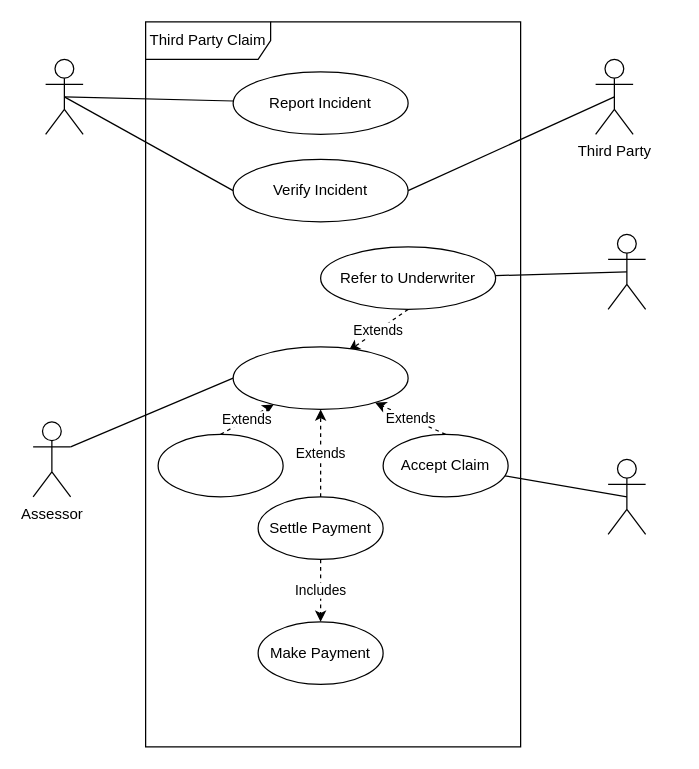
This 699x769 diagram has some shape labels left out. The centre of each missing label's shape, as x and y in pixels:
"Assess Claim" goes at pixel 320 377.
"Driver" goes at pixel 63 96.
"Expert Witness" goes at pixel 626 496.
"Reject Claim" goes at pixel 220 465.
"Underwriter" goes at pixel 626 271.
